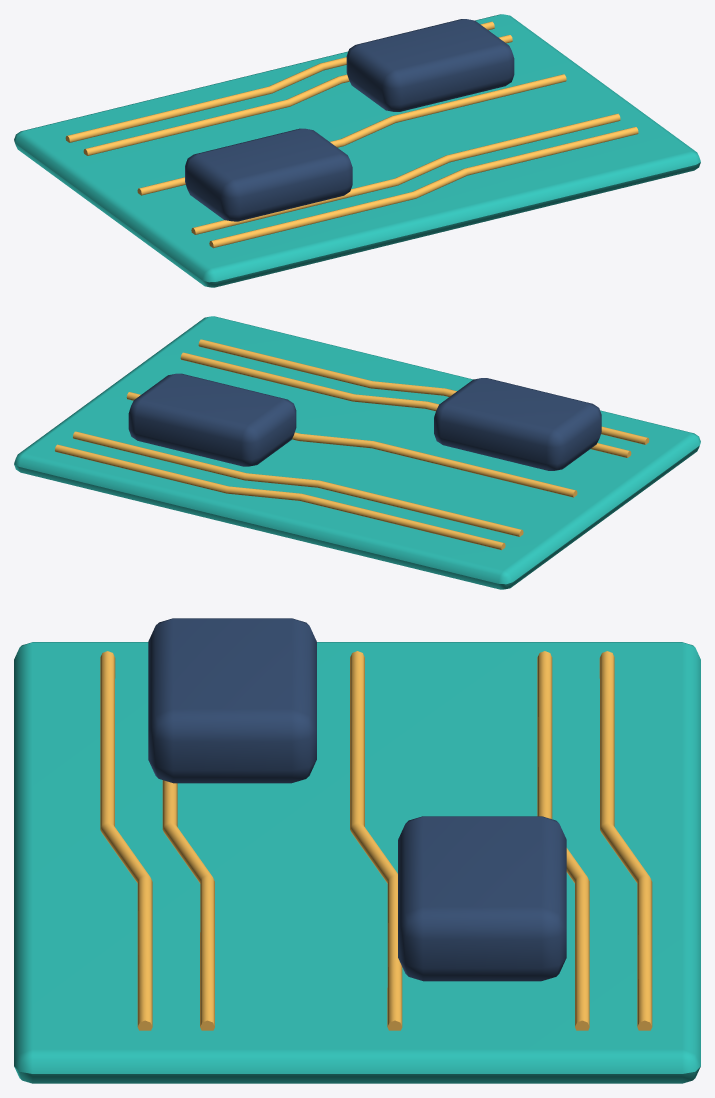
The model's file is printed-circuit-board-lite.glb.
The picture shows the model from 3 angles, top to bottom: view 1: azimuth 30°, elevation 25°; view 2: azimuth 150°, elevation 25°; view 3: azimuth 270°, elevation 25°; orthographic projection. The views are drawn at different scales.
Visible parts, largest first — view 1: PCB; view 2: PCB; view 3: PCB.
Boxes of the visible parts, left/top/right/bottom form: PCB: left=14, top=14, right=700, bottom=287; PCB: left=14, top=316, right=700, bottom=589; PCB: left=14, top=618, right=700, bottom=1083.
Size of the model in its own units: 1.6 by 0.195 by 1.1.
